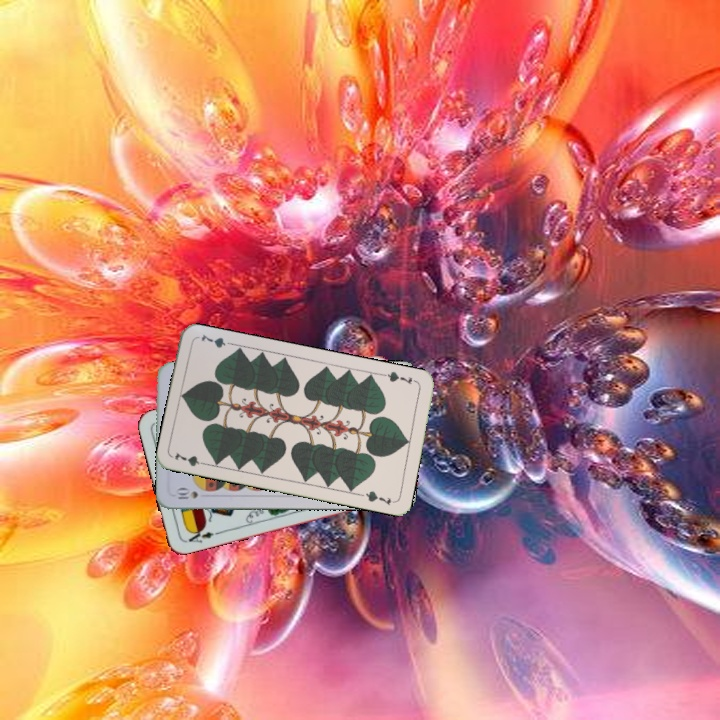EA: (181, 525, 221, 546)
G7: (171, 448, 211, 469), (379, 367, 419, 387)
S10: (173, 486, 200, 501)
